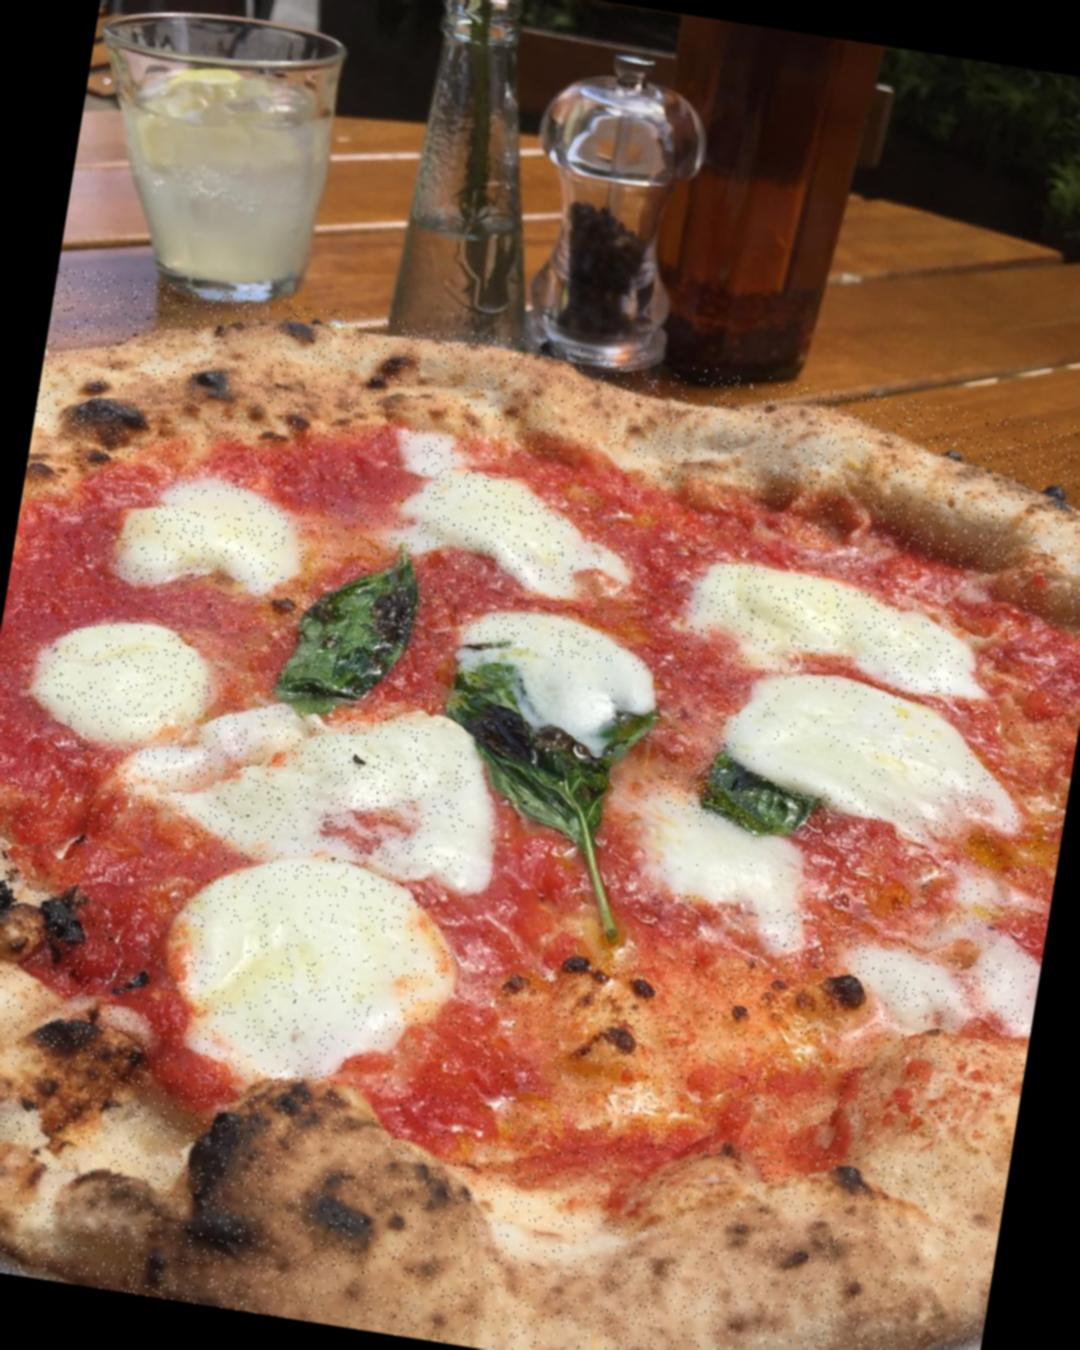Basil: (401, 642, 677, 959), (267, 517, 434, 737), (683, 736, 838, 858)
Cheese: (180, 865, 440, 1061), (207, 715, 476, 871), (696, 560, 958, 690), (727, 678, 969, 818), (413, 464, 576, 582), (637, 810, 810, 914), (131, 485, 288, 595), (44, 626, 198, 736)
Pizza: (0, 264, 1080, 1350)
